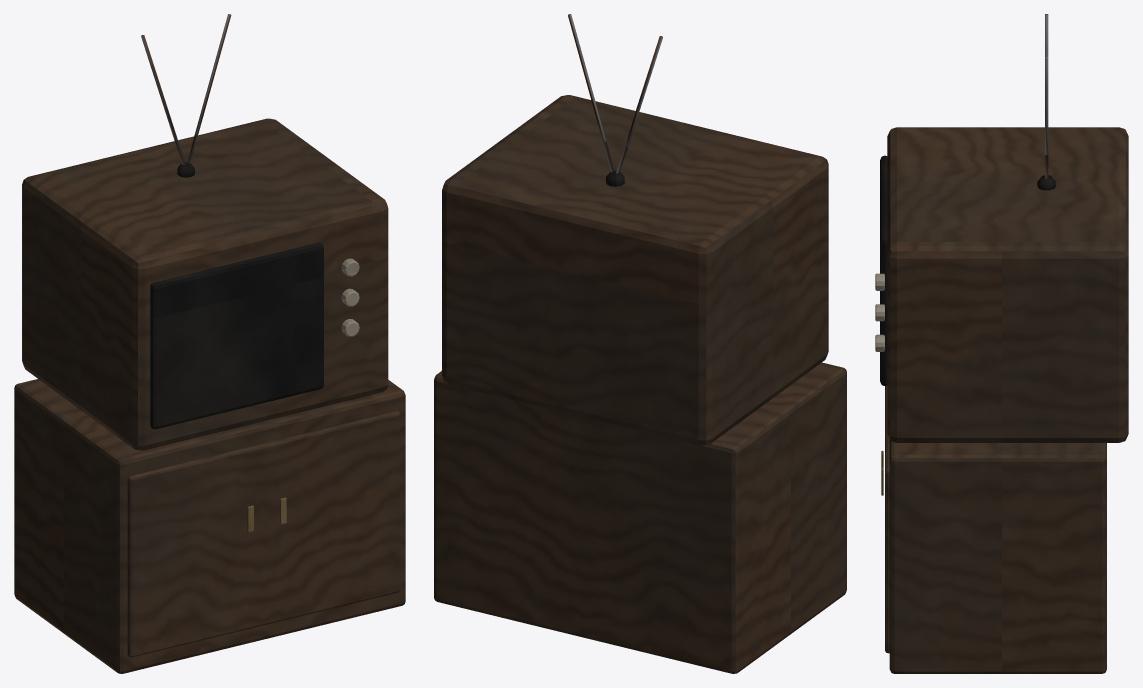
Rendered from L04_old_tv_on_stand.glb.
3 views of the same model, side by side, from view 1: azimuth 30°, elevation 25°; view 2: azimuth 150°, elevation 25°; view 3: azimuth 270°, elevation 25° (orthographic). The views are drawn at different scales.
Parts seen in each view (by area): view 1: L04_old_tv_on_stand; view 2: L04_old_tv_on_stand; view 3: L04_old_tv_on_stand.
Part boxes in pixels (x1,y1,x2,y2): L04_old_tv_on_stand: (14, 14, 405, 673); L04_old_tv_on_stand: (434, 14, 846, 673); L04_old_tv_on_stand: (875, 14, 1128, 673).
Bounding box in the file's own units: 0.4304 × 0.8 × 0.3228.
6 materials, 6 textured.
